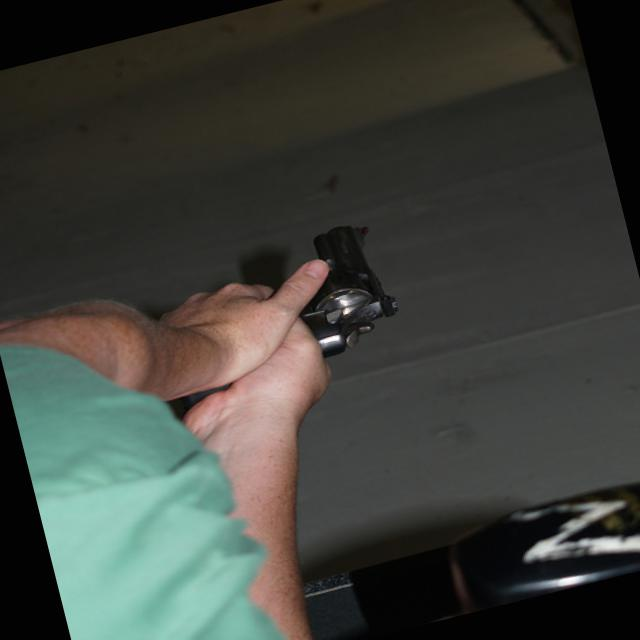handgun: (148, 212, 418, 404)
